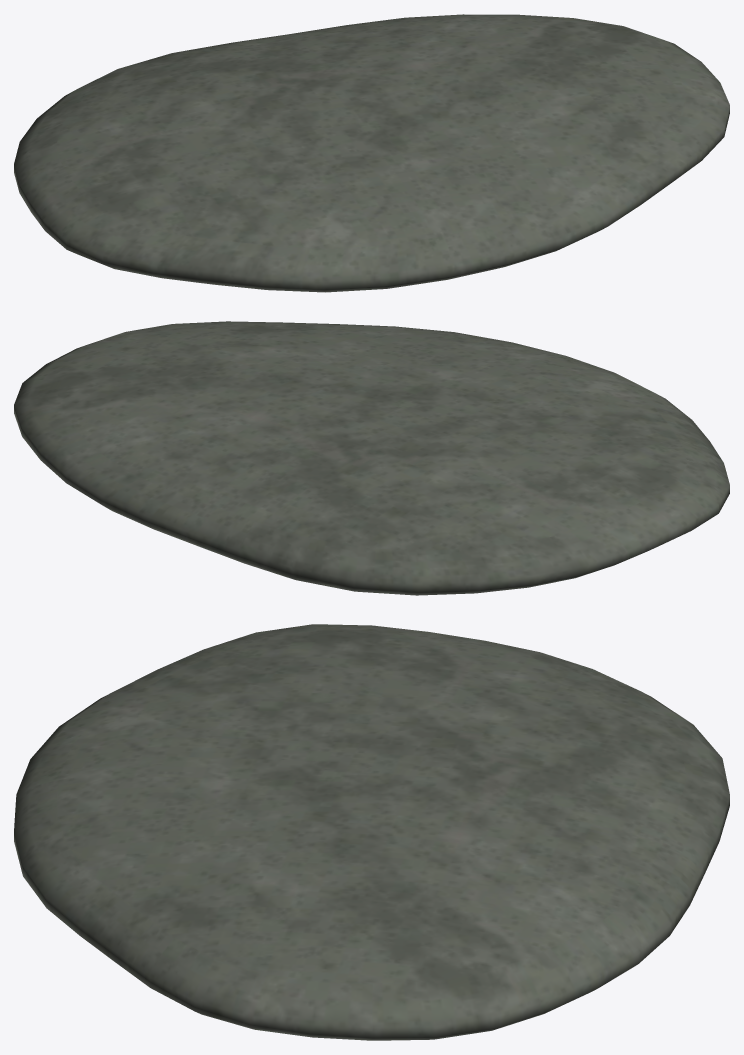
File: standard_04.glb
The picture shows the model from 3 angles, top to bottom: view 1: azimuth 30°, elevation 25°; view 2: azimuth 150°, elevation 25°; view 3: azimuth 270°, elevation 25°; orthographic projection. The views are drawn at different scales.
Visible parts, largest first — view 1: standard_04; view 2: standard_04; view 3: standard_04.
Part boxes in pixels (x1,y1,x2,y2): standard_04: [14, 14, 729, 292]; standard_04: [14, 321, 729, 595]; standard_04: [14, 624, 729, 1040].
Size of the model in its own units: 0.0799 by 0.00953 by 0.0604.
Materials: 1 (1 with a texture image).
